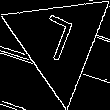L_SW: (36, 12, 81, 71)
